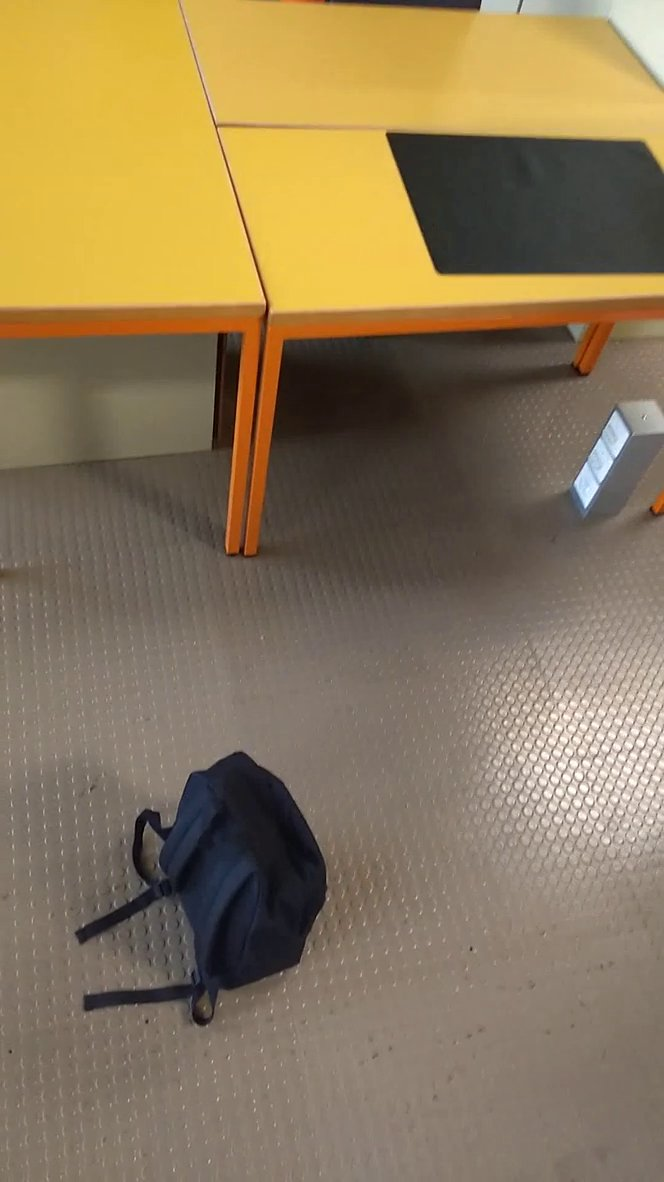bag: (70, 742, 336, 1031)
